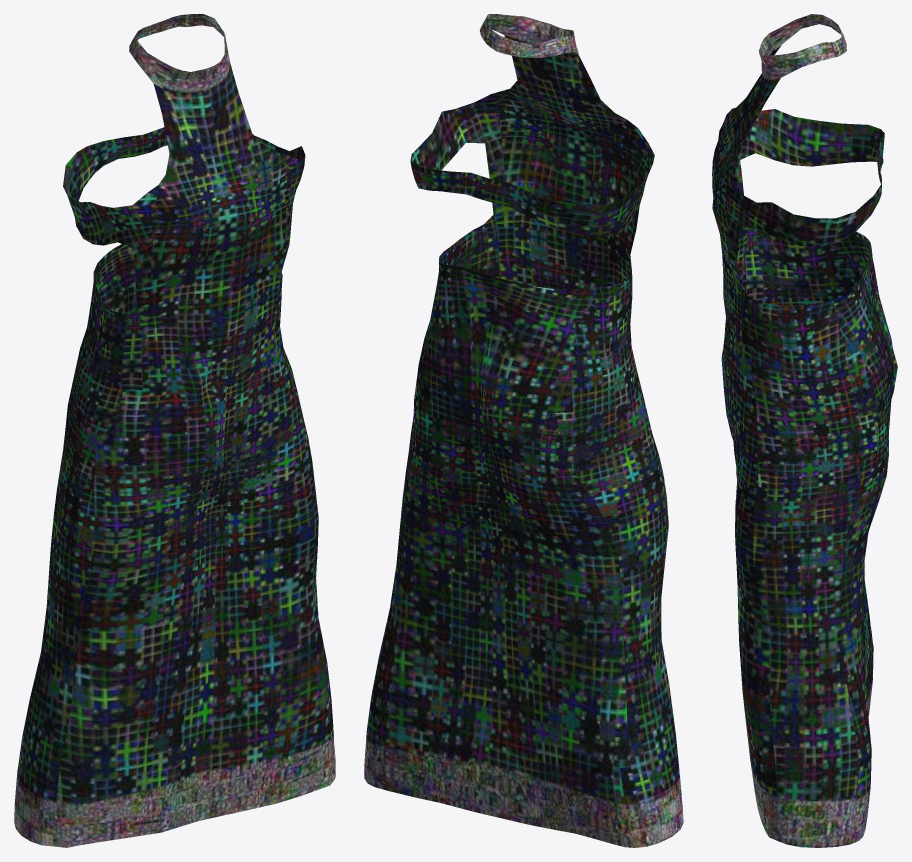
Rendered from mhw_elvs_simple_fashion_dress_1.glb.
3 renders of one model, left to right at view 1: azimuth 30°, elevation 25°; view 2: azimuth 150°, elevation 25°; view 3: azimuth 270°, elevation 25°, orthographic. The views are drawn at different scales.
Parts seen in each view (by area): view 1: mhw_elvs_simple_fashion_dress_1; view 2: mhw_elvs_simple_fashion_dress_1; view 3: mhw_elvs_simple_fashion_dress_1.
Boxes of the visible parts, left/top/right/bottom form: mhw_elvs_simple_fashion_dress_1: left=14, top=14, right=335, bottom=847; mhw_elvs_simple_fashion_dress_1: left=364, top=14, right=683, bottom=847; mhw_elvs_simple_fashion_dress_1: left=712, top=14, right=897, bottom=847.
Size of the model in its own units: 0.5379 by 1.32 by 0.2968.
Materials: 1 (1 with a texture image).
